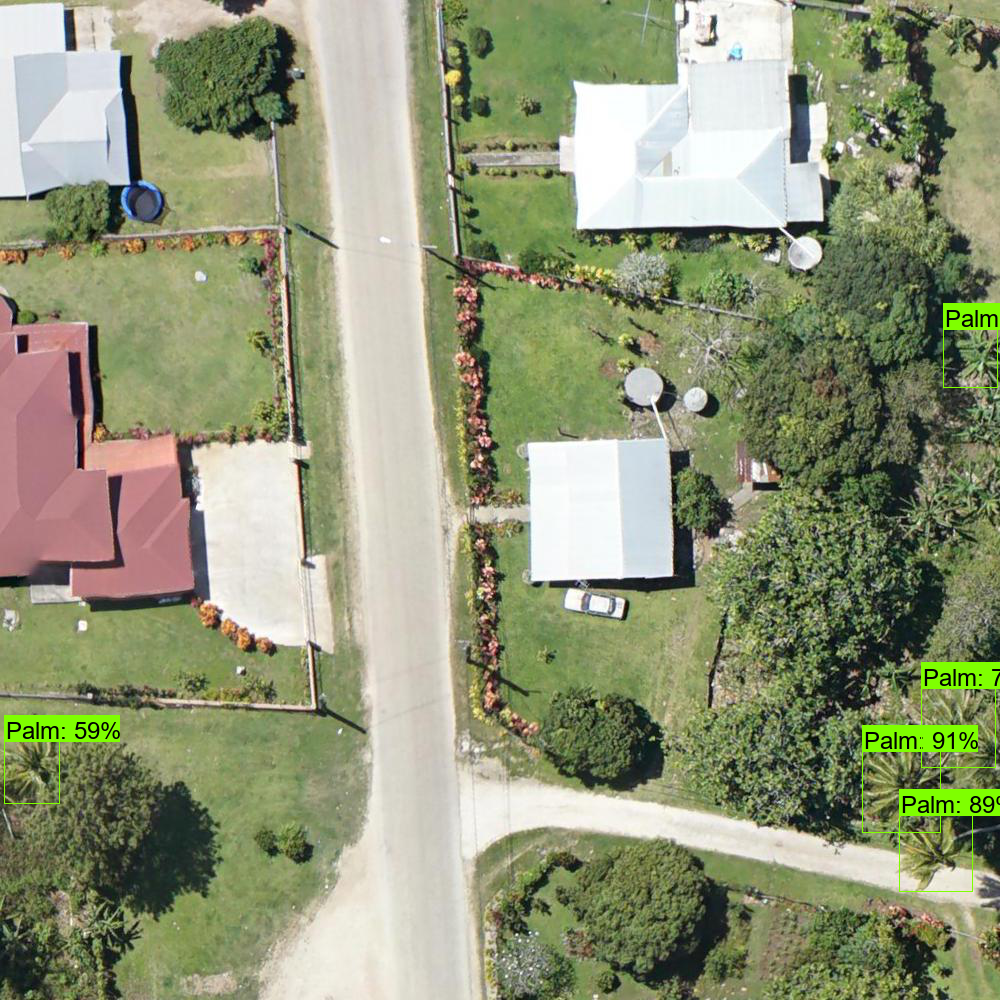Palm: (866, 744, 946, 819), (5, 729, 67, 793), (904, 821, 964, 886)
